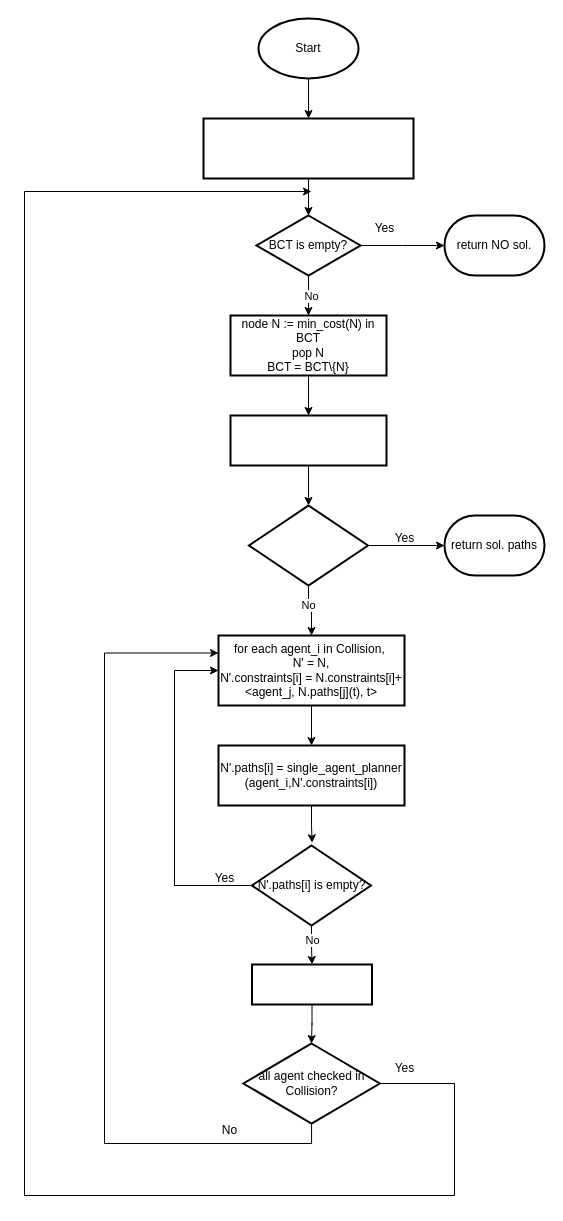
The diagram is 563 pixels wide and 1221 high, and some of its shapes have lost their labels. Each missing label, with the box of its shape:
BCT = union(BCT, N'): (250, 963, 372, 1005)
Collision := first body conflict in N.paths: (229, 414, 387, 466)
Collision is empty?: (248, 504, 368, 586)
Root.constraints=[]; Root.paths=single_agent_planner (agent_i,[]) BCT = {Root}: (202, 117, 414, 179)
